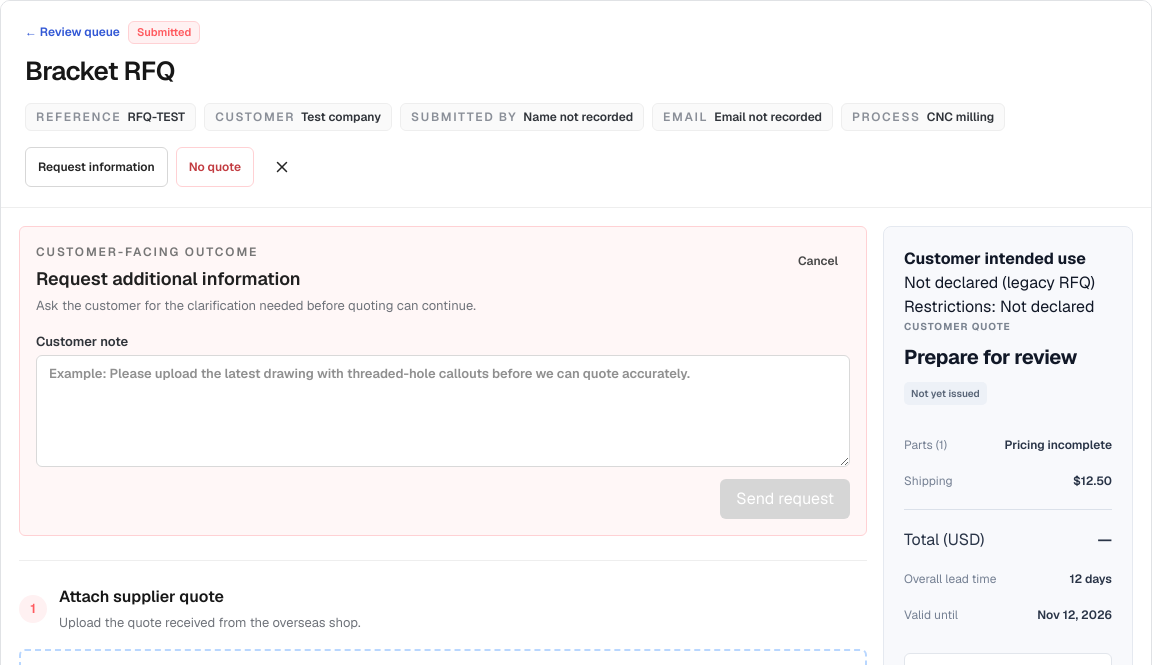
it: quote workbench saves › retains a customer clarification note when its save fails
Replace the text in the text box labelled "Customer note" with "Please confirm tolerance." at (443, 411), box x1=36 y1=355 x2=850 y2=467
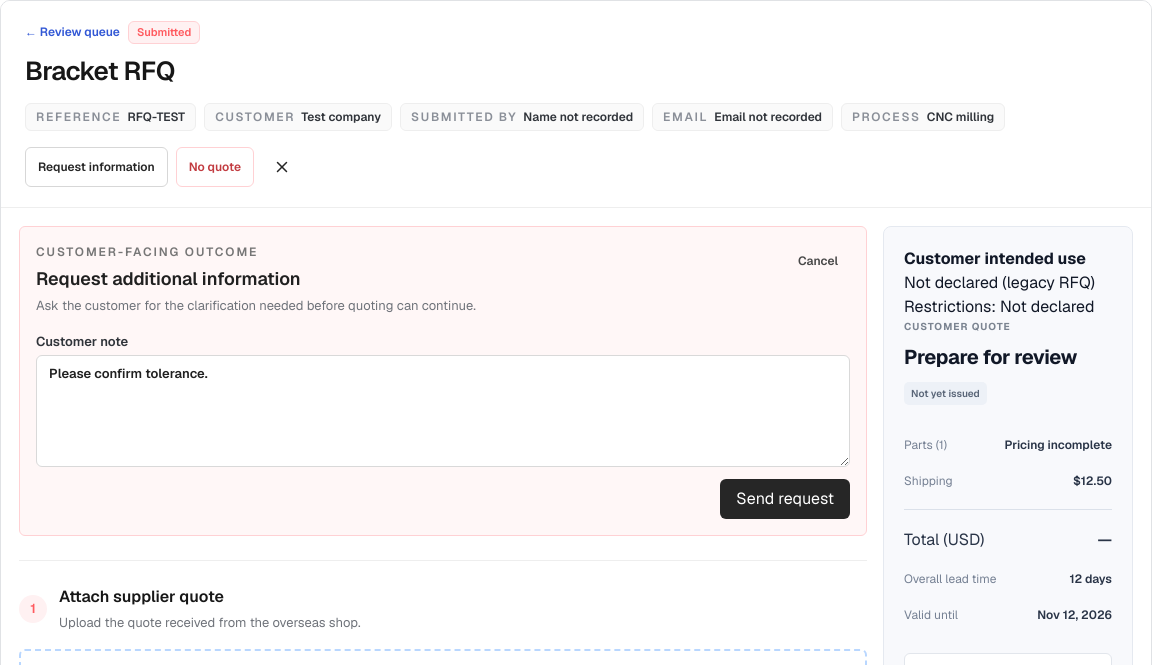
Submit the form "Customer note Send request", box x1=36 y1=332 x2=850 y2=519
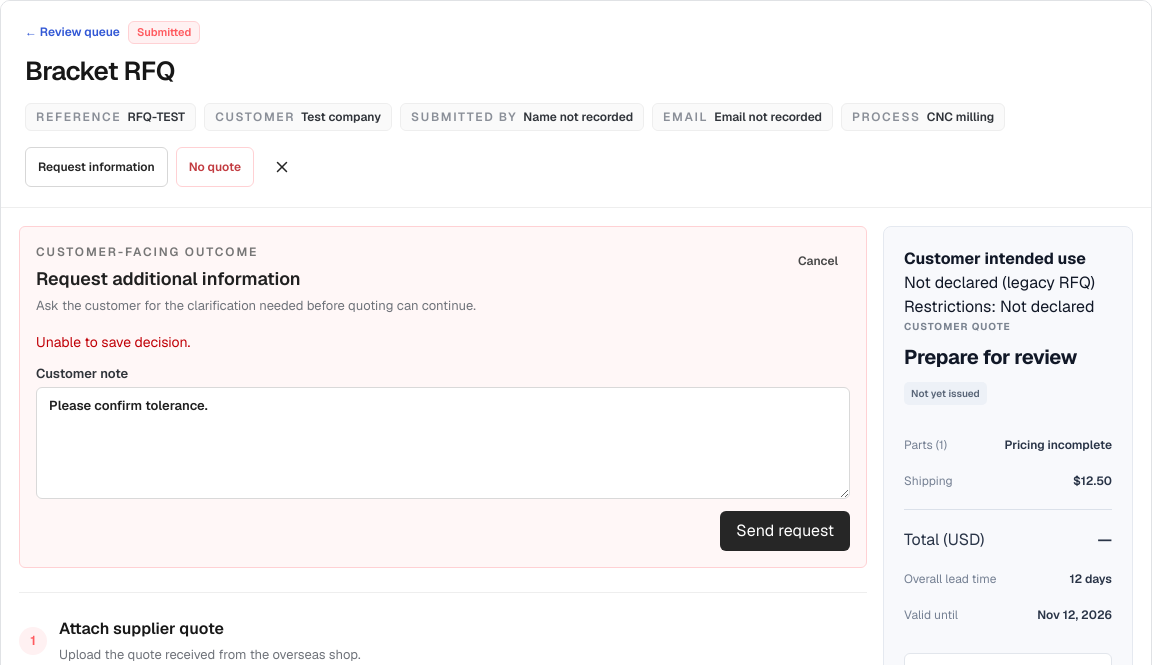
Expected: the message reads "Unable to save decision.", x1=36 y1=332 x2=190 y2=350
